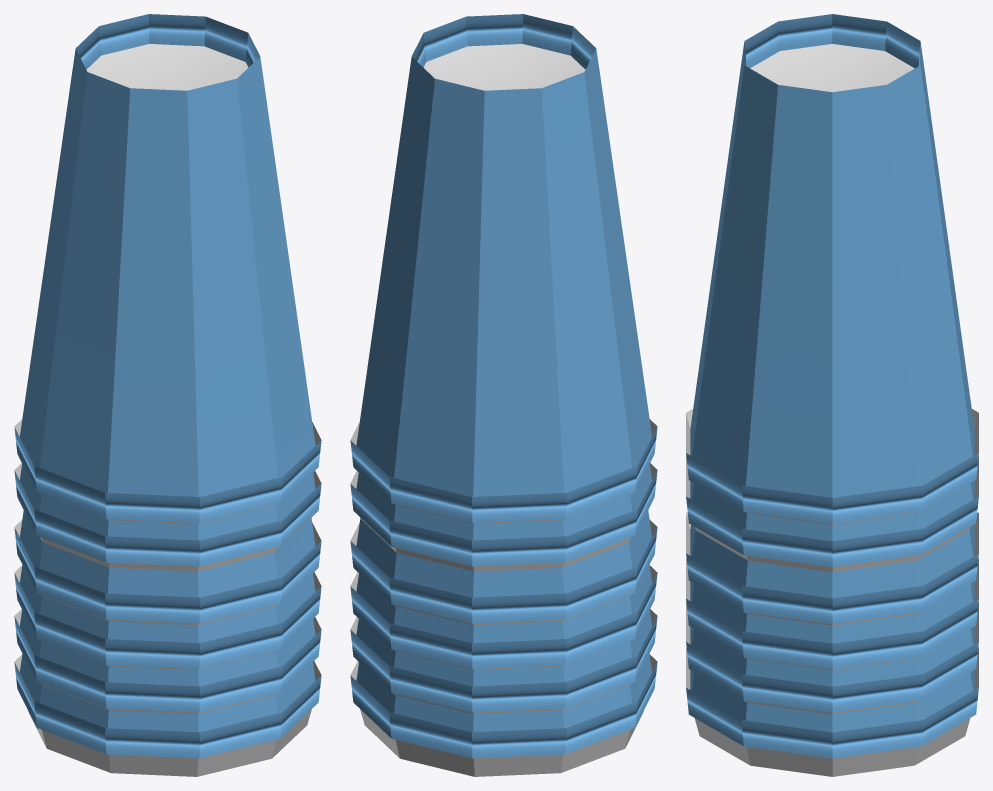
File: SlusheeCups.fbx
The picture shows the model from 3 angles, left to right: view 1: azimuth 30°, elevation 25°; view 2: azimuth 150°, elevation 25°; view 3: azimuth 270°, elevation 25°; orthographic projection.
Parts seen in each view (by area): view 1: SlusheeCups; view 2: SlusheeCups; view 3: SlusheeCups.
Part boxes in pixels (left/top/right/bottom): SlusheeCups: left=14, top=14, right=321, bottom=776; SlusheeCups: left=350, top=14, right=657, bottom=776; SlusheeCups: left=686, top=14, right=978, bottom=776.
Bounding box in the file's own units: 0.4428 × 1.05 × 0.4211.
